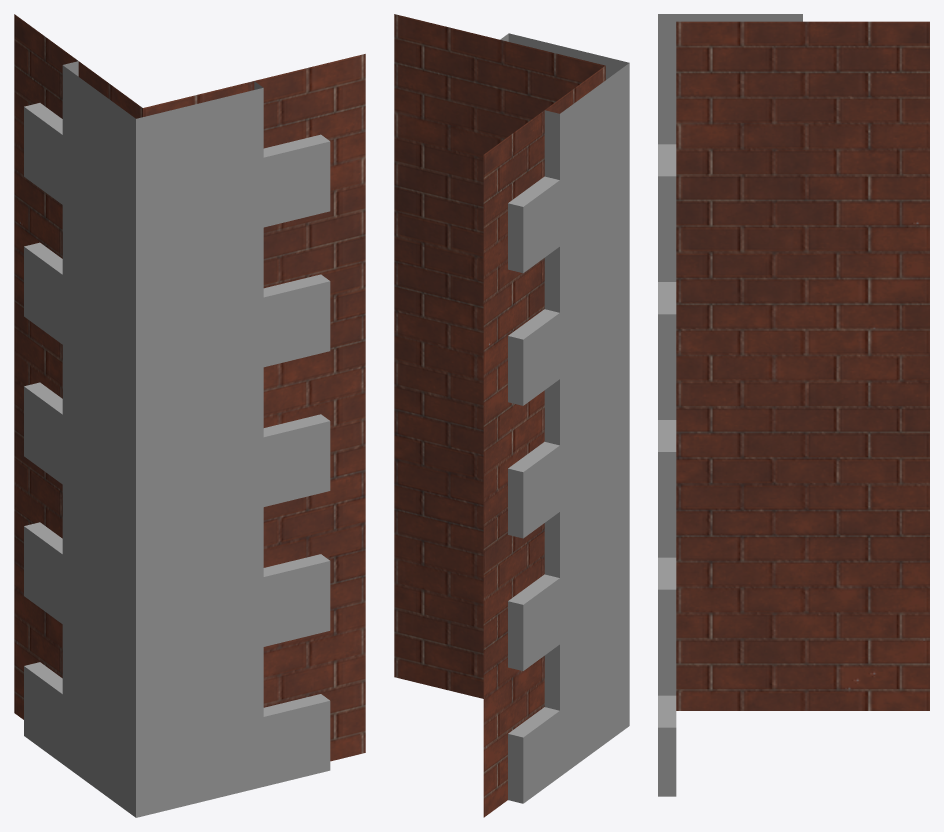
The model's file is Brick_Corner_Stone.fbx.
3 views of the same model, side by side, from view 1: azimuth 30°, elevation 25°; view 2: azimuth 150°, elevation 25°; view 3: azimuth 270°, elevation 25° (orthographic). The views are drawn at different scales.
Parts seen in each view (by area): view 1: Brick_Corner_Stone; view 2: Brick_Corner_Stone; view 3: Brick_Corner_Stone.
Boxes of the visible parts, x1,y1,x2,y2 form: Brick_Corner_Stone: (14, 14, 365, 817); Brick_Corner_Stone: (394, 14, 629, 817); Brick_Corner_Stone: (658, 14, 929, 796).
Bounding box in the file's own units: 1.07 × 3 × 1.07.
